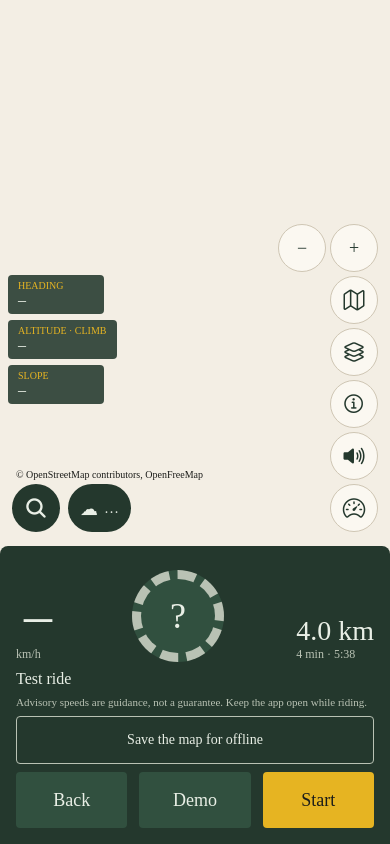
Scenario: the gauges card has a switch for the column and for each reading, and a reading switched off is gone at once
Click the button "Start" at (318, 800), box [263,772,374,828]
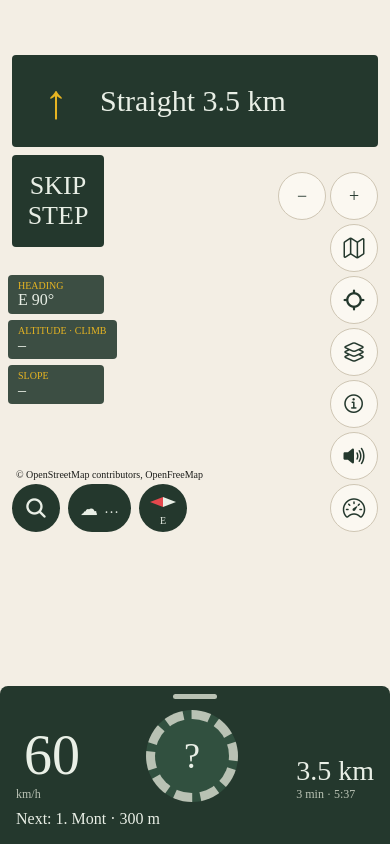
Expected: the element with test id "gauge-compass" is shown, [8,275,104,314]
Click the button named "Open the gauges" at (354, 508), box [330,484,378,532]
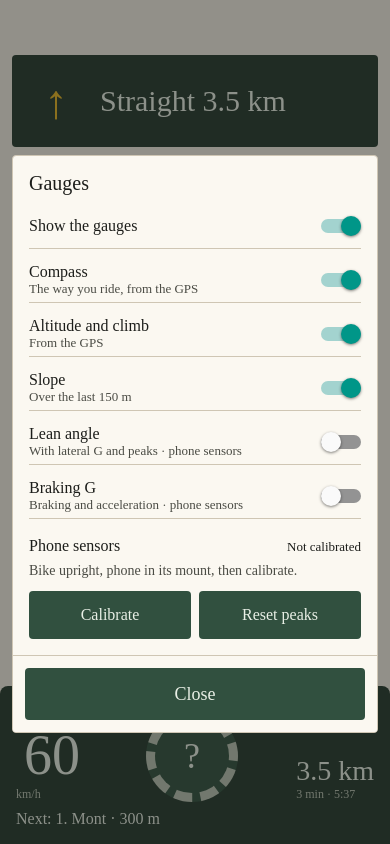
Expected: the text "Gauges" is shown, [29,172,89,194]
Expected: the element with test id "gauge-switch-compass" is shown
Expected: the element with test id "gauge-switch-slope" is shown, [321,378,361,398]
Click the switch with test id "gauge-switch-compass" at (341, 280), box [321,270,361,290]
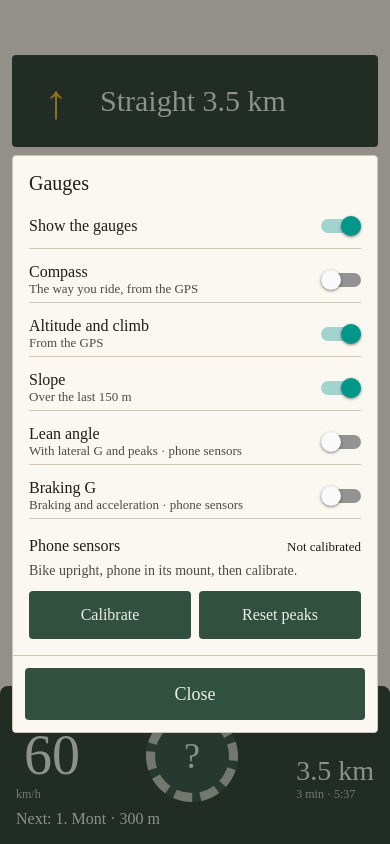
Click the button "Close" at (195, 694), box [25,668,365,720]
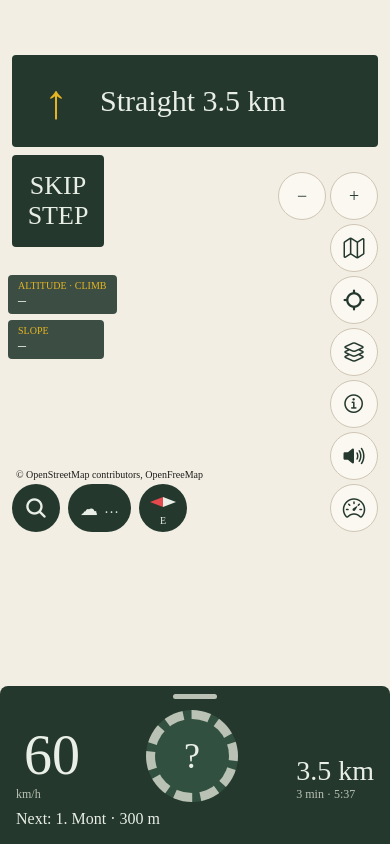
Expected: the element with test id "gauge-altitude" is shown, [8,275,116,314]
